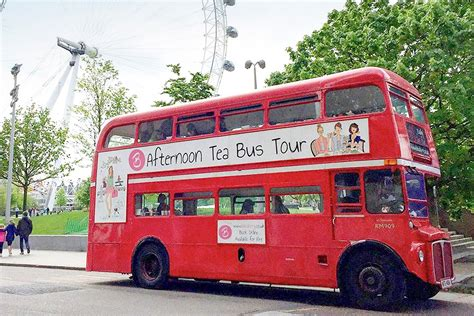bus: (86, 79, 444, 309)
